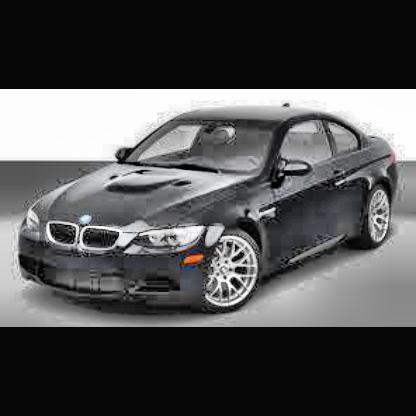BMW M3 Coupe 2012: (19, 105, 405, 318)
